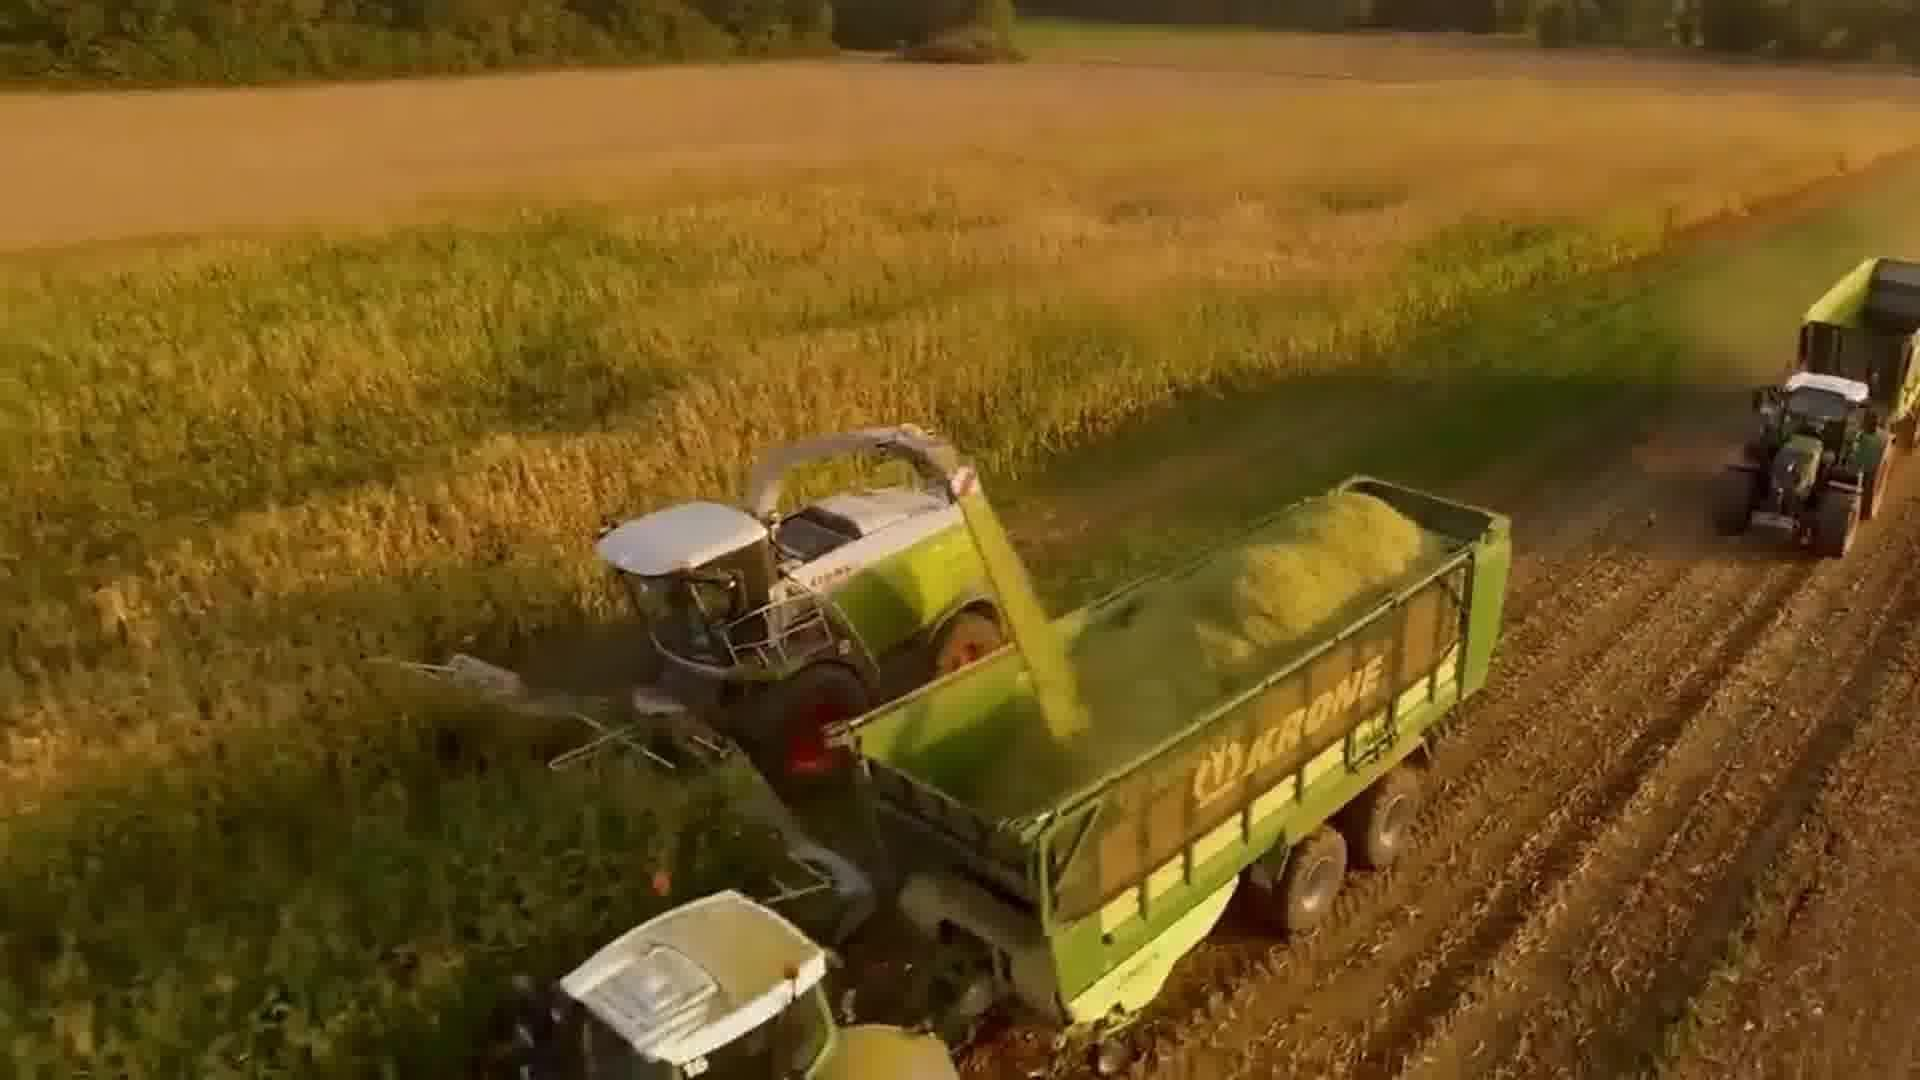combine harvester: (371, 419, 1024, 914)
tractor: (480, 884, 953, 1080), (1709, 366, 1901, 574)
trailer: (829, 467, 1521, 1040), (1790, 253, 1920, 440)
